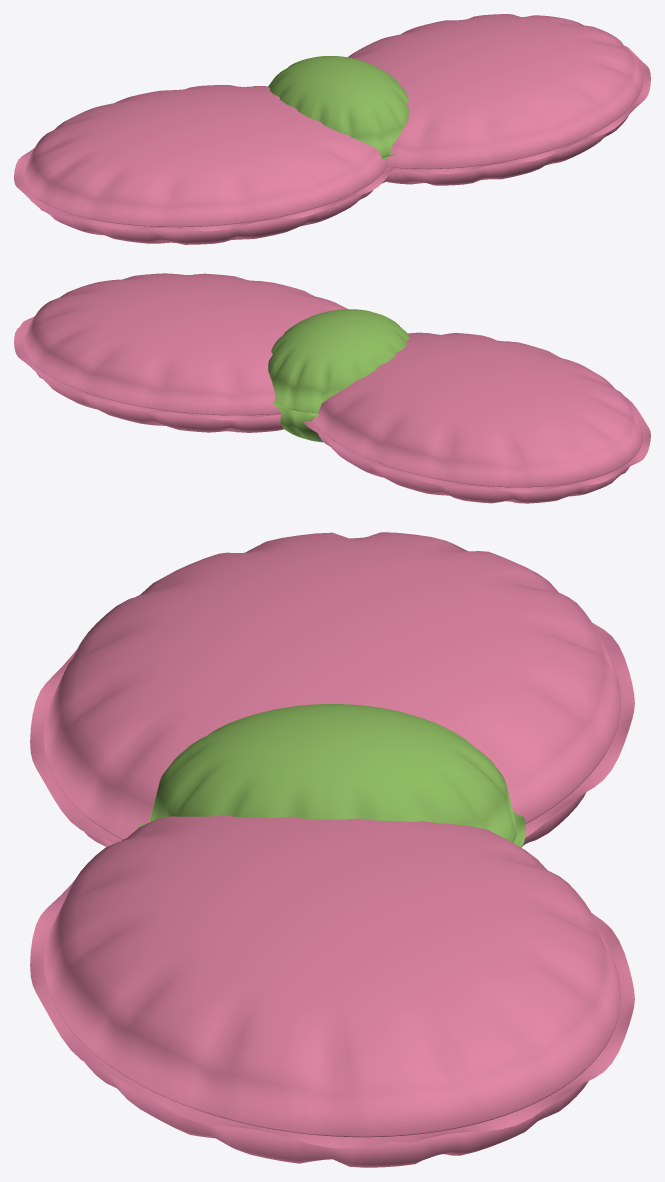
File: bow.glb
3 renders of one model, top to bottom at view 1: azimuth 30°, elevation 25°; view 2: azimuth 150°, elevation 25°; view 3: azimuth 270°, elevation 25°, orthographic. The views are drawn at different scales.
Visible parts, largest first — view 1: Loop, Loop.001, Knot, Loop weld, Loop weld.001; view 2: Loop, Loop.001, Knot, Loop weld, Loop weld.001; view 3: Loop.001, Loop, Knot, Loop weld.001, Loop weld.
Part boxes in pixels (x1=…): Loop: x1=23, y1=85, x2=387, y2=244; Loop.001: x1=348, y1=14, x2=642, y2=185; Knot: x1=268, y1=56, x2=409, y2=183; Loop weld: x1=14, y1=148, x2=395, y2=231; Loop weld.001: x1=385, y1=45, x2=650, y2=173; Loop: x1=312, y1=332, x2=642, y2=503; Loop.001: x1=23, y1=273, x2=347, y2=432; Knot: x1=268, y1=309, x2=409, y2=442; Loop weld: x1=304, y1=397, x2=650, y2=492; Loop weld.001: x1=14, y1=316, x2=283, y2=420; Loop.001: x1=44, y1=815, x2=620, y2=1167; Loop: x1=44, y1=532, x2=620, y2=847; Knot: x1=149, y1=704, x2=516, y2=842; Loop weld.001: x1=30, y1=881, x2=634, y2=1148; Loop weld: x1=30, y1=622, x2=634, y2=842.
Bounding box in the file's own units: 1.82 × 0.315 × 0.787.
